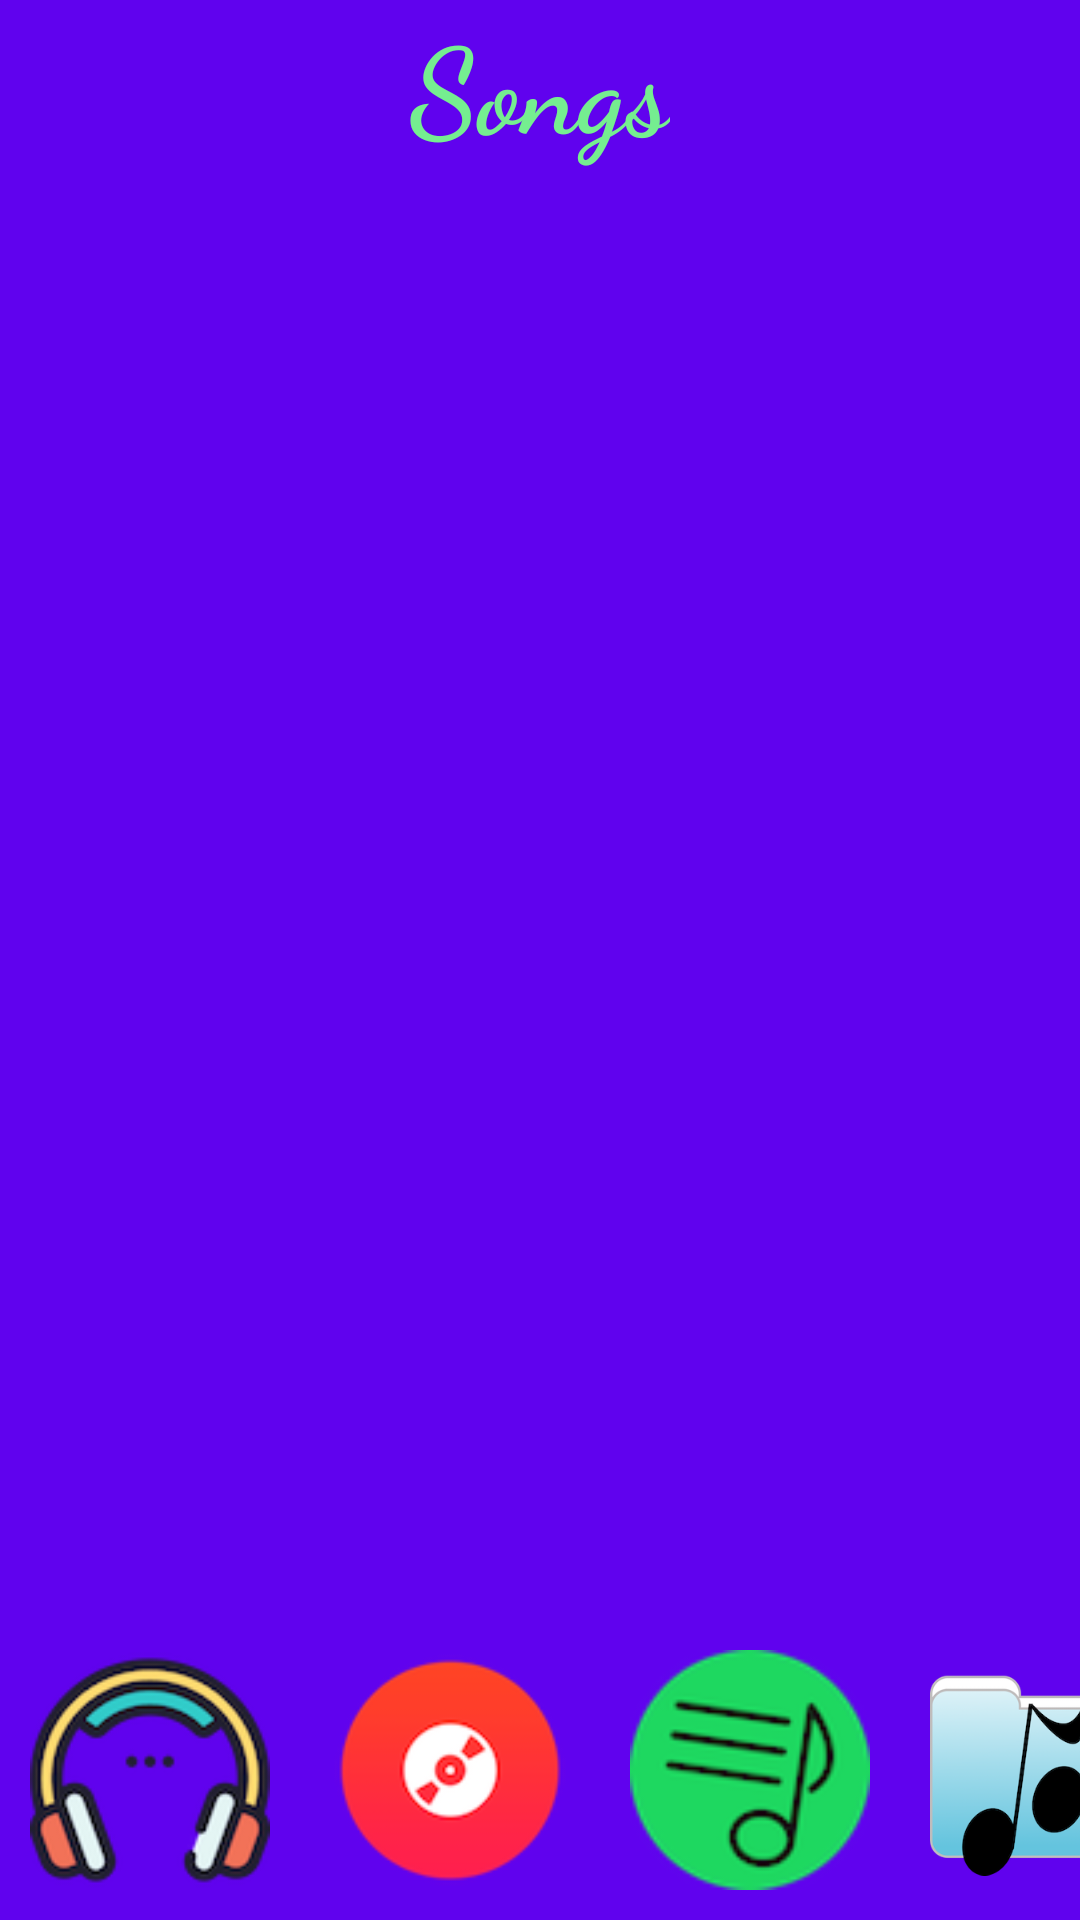

Named icons in this screenshot (1080px x 1920px) and their centers, point (x, y):
albumicon: point (450, 1770)
headphones: point (150, 1770)
songicon: point (750, 1770)
